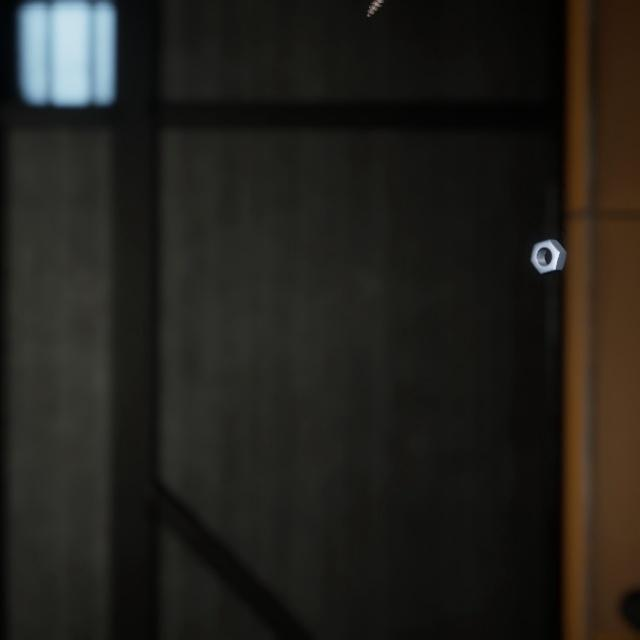nut: (525, 218, 571, 262)
